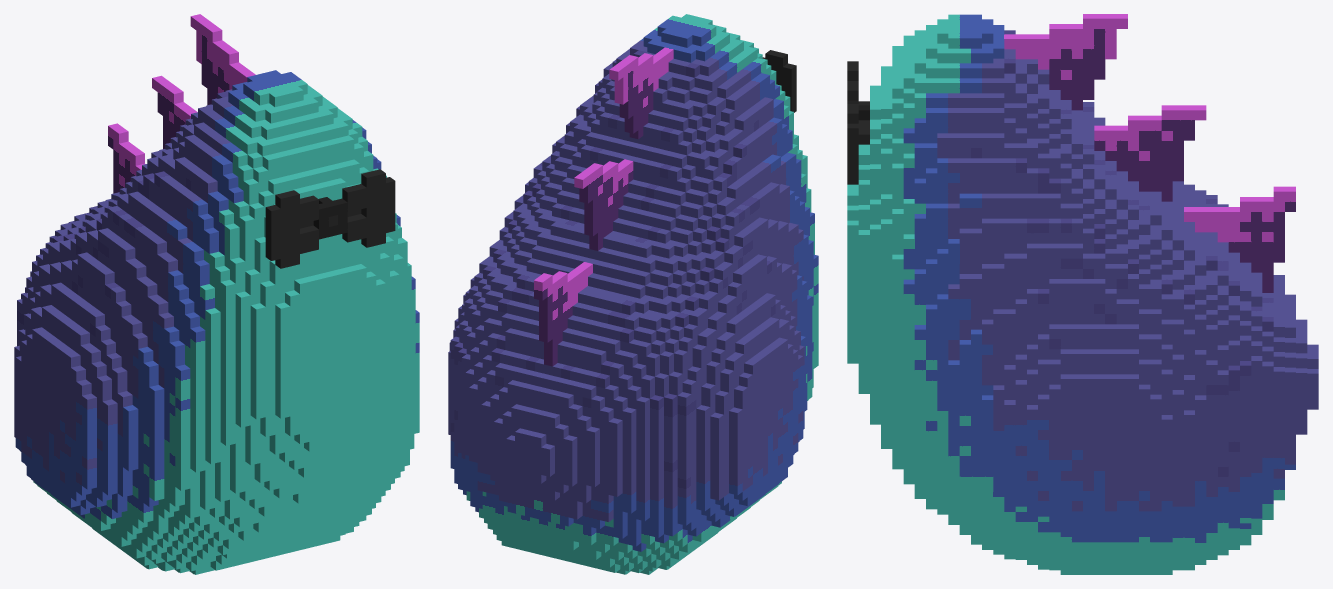
The model's file is black bow tie.gltf.
The picture shows the model from 3 angles, left to right: view 1: azimuth 30°, elevation 25°; view 2: azimuth 150°, elevation 25°; view 3: azimuth 270°, elevation 25°; orthographic projection. The views are drawn at different scales.
Parts seen in each view (by area): view 1: 01_Body_BowTie-Mesh; view 2: 01_Body_BowTie-Mesh; view 3: 01_Body_BowTie-Mesh.
Part boxes in pixels (x1,y1,x2,y2): 01_Body_BowTie-Mesh: (14,14,419,574); 01_Body_BowTie-Mesh: (448,14,818,574); 01_Body_BowTie-Mesh: (847,14,1318,574).
Size of the model in its own units: 33 by 51 by 42.
Materials: 1 (1 with a texture image).
